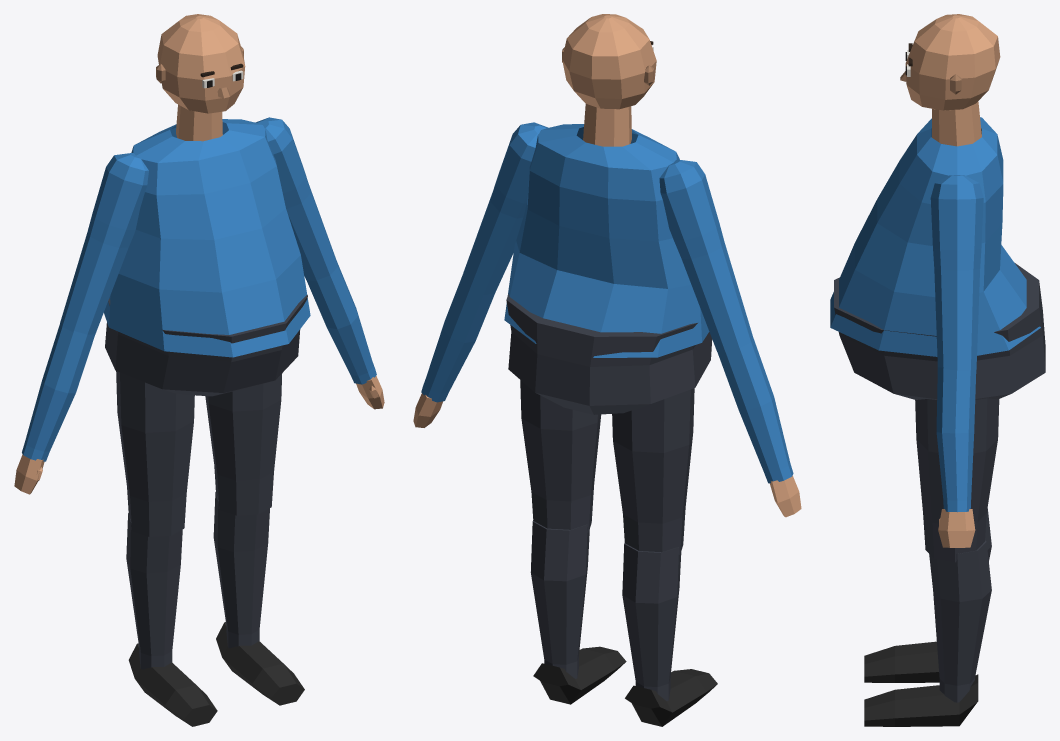
Rendered from adulte_f_fort.glb.
The picture shows the model from 3 angles, left to right: view 1: azimuth 30°, elevation 25°; view 2: azimuth 150°, elevation 25°; view 3: azimuth 270°, elevation 25°; orthographic projection. The views are drawn at different scales.
Parts seen in each view (by area): view 1: torse, jambe_d, tibia_d, tibia_g, tete, bassin, jambe_g, bras_d, avant_bras_d, bras_g, avant_bras_g; view 2: torse, bassin, jambe_d, tibia_g, tibia_d, tete, bras_d, jambe_g, bras_g, avant_bras_d, avant_bras_g; view 3: torse, tibia_g, tete, bassin, bras_g, jambe_g, avant_bras_g, tibia_d.
Part boxes in pixels (bbox=[...]): torse: bbox=[104, 119, 310, 357]; jambe_d: bbox=[116, 371, 194, 536]; tibia_d: bbox=[126, 513, 217, 726]; tibia_g: bbox=[213, 492, 304, 705]; tete: bbox=[156, 14, 245, 141]; bassin: bbox=[105, 295, 307, 396]; jambe_g: bbox=[205, 373, 282, 515]; bras_d: bbox=[60, 153, 148, 334]; avant_bras_d: bbox=[14, 324, 95, 494]; bras_g: bbox=[255, 117, 338, 281]; avant_bras_g: bbox=[306, 262, 384, 409]; torse: bbox=[504, 124, 709, 357]; bassin: bbox=[506, 294, 712, 414]; jambe_d: bbox=[612, 388, 694, 554]; tibia_g: bbox=[530, 520, 626, 704]; tibia_d: bbox=[622, 543, 717, 726]; tete: bbox=[562, 14, 656, 146]; bras_d: bbox=[659, 159, 753, 352]; jambe_g: bbox=[520, 380, 601, 532]; bras_g: bbox=[461, 122, 548, 294]; avant_bras_d: bbox=[717, 338, 801, 517]; avant_bras_g: bbox=[413, 275, 494, 427]; torse: bbox=[830, 117, 1040, 356]; tibia_g: bbox=[864, 540, 991, 726]; tete: bbox=[900, 14, 1000, 146]; bassin: bbox=[834, 262, 1045, 399]; bras_g: bbox=[930, 175, 983, 370]; jambe_g: bbox=[915, 398, 999, 562]; avant_bras_g: bbox=[936, 367, 976, 547]; tibia_d: bbox=[864, 508, 991, 682].
Size of the model in its own units: 0.9354 by 1.63 by 0.4662.
Materials: 1 (1 with a texture image).
